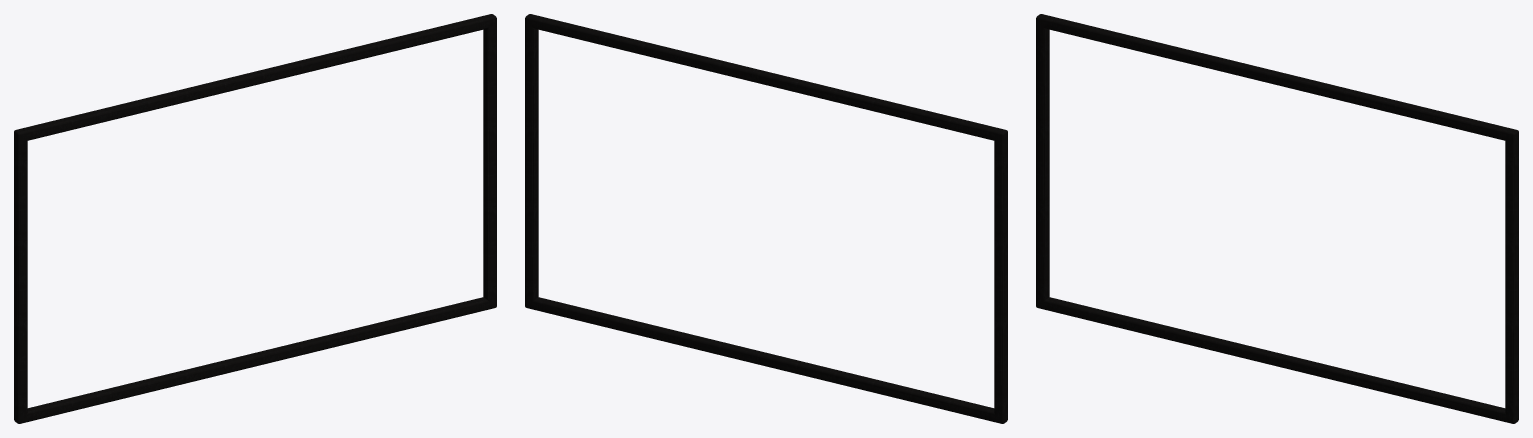
Rendered from screen_frame.glb.
The picture shows the model from 3 angles, left to right: view 1: azimuth 30°, elevation 25°; view 2: azimuth 150°, elevation 25°; view 3: azimuth 330°, elevation 25°; orthographic projection.
Visible parts, largest first — view 1: Screen Black Frame geometry; view 2: Screen Black Frame geometry; view 3: Screen Black Frame geometry.
Boxes of the visible parts, left/top/right/bottom form: Screen Black Frame geometry: left=14, top=14, right=496, bottom=423; Screen Black Frame geometry: left=525, top=14, right=1007, bottom=423; Screen Black Frame geometry: left=1036, top=14, right=1518, bottom=423.
Size of the model in its own units: 6.26 by 3.64 by 0.12.
1 material, 1 textured.
